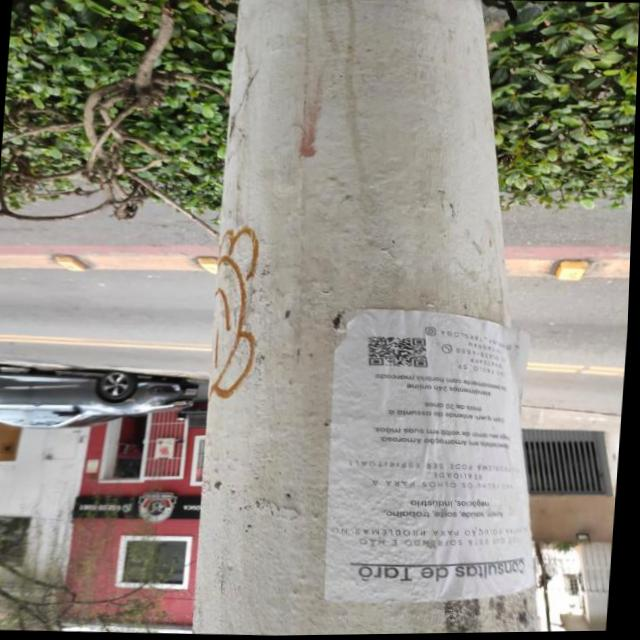qrcode: (368, 336, 432, 369)
